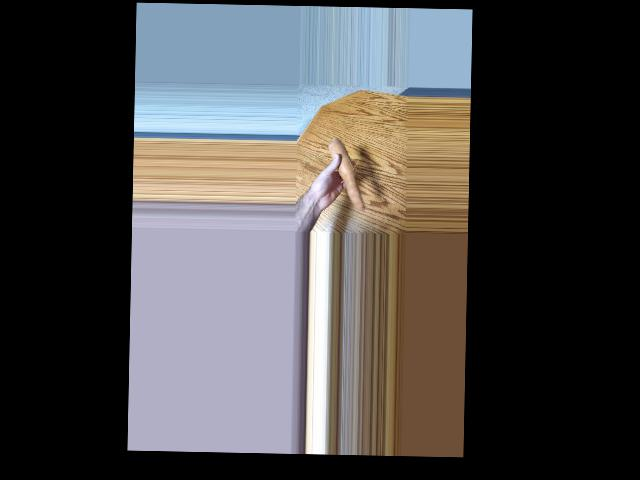sweet_potato: (335, 135, 361, 212)
